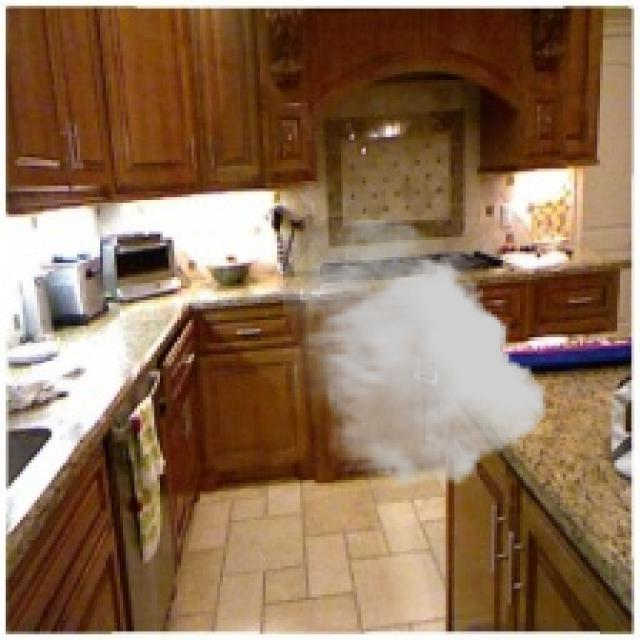smoke: (283, 220, 546, 489)
